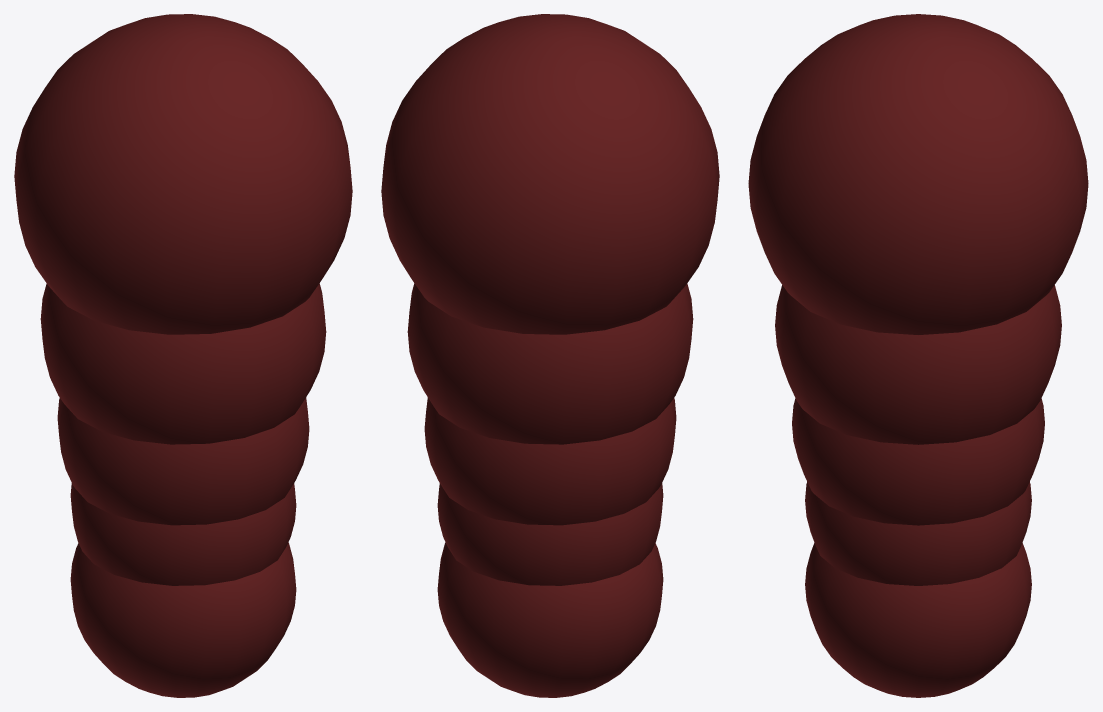
The model's file is House7.fbx.
3 views of the same model, side by side, from view 1: azimuth 30°, elevation 25°; view 2: azimuth 150°, elevation 25°; view 3: azimuth 270°, elevation 25° (orthographic).
Parts seen in each view (by area): view 1: pSphere10, pSphere9, pSphere6, pSphere8, pSphere7; view 2: pSphere10, pSphere9, pSphere6, pSphere8, pSphere7; view 3: pSphere10, pSphere9, pSphere6, pSphere8, pSphere7.
Boxes of the visible parts, x1,y1,x2,y2 form: pSphere10: [14, 14, 352, 334]; pSphere9: [40, 283, 326, 444]; pSphere6: [70, 542, 296, 697]; pSphere8: [57, 397, 309, 525]; pSphere7: [70, 483, 296, 585]; pSphere10: [381, 14, 719, 334]; pSphere9: [407, 283, 693, 444]; pSphere6: [437, 542, 663, 697]; pSphere8: [424, 397, 676, 525]; pSphere7: [437, 483, 663, 585]; pSphere10: [748, 14, 1088, 334]; pSphere9: [775, 285, 1061, 444]; pSphere6: [805, 543, 1031, 697]; pSphere8: [792, 398, 1044, 525]; pSphere7: [805, 482, 1031, 585].
Size of the model in its own units: 28.92 by 61.72 by 28.92.
